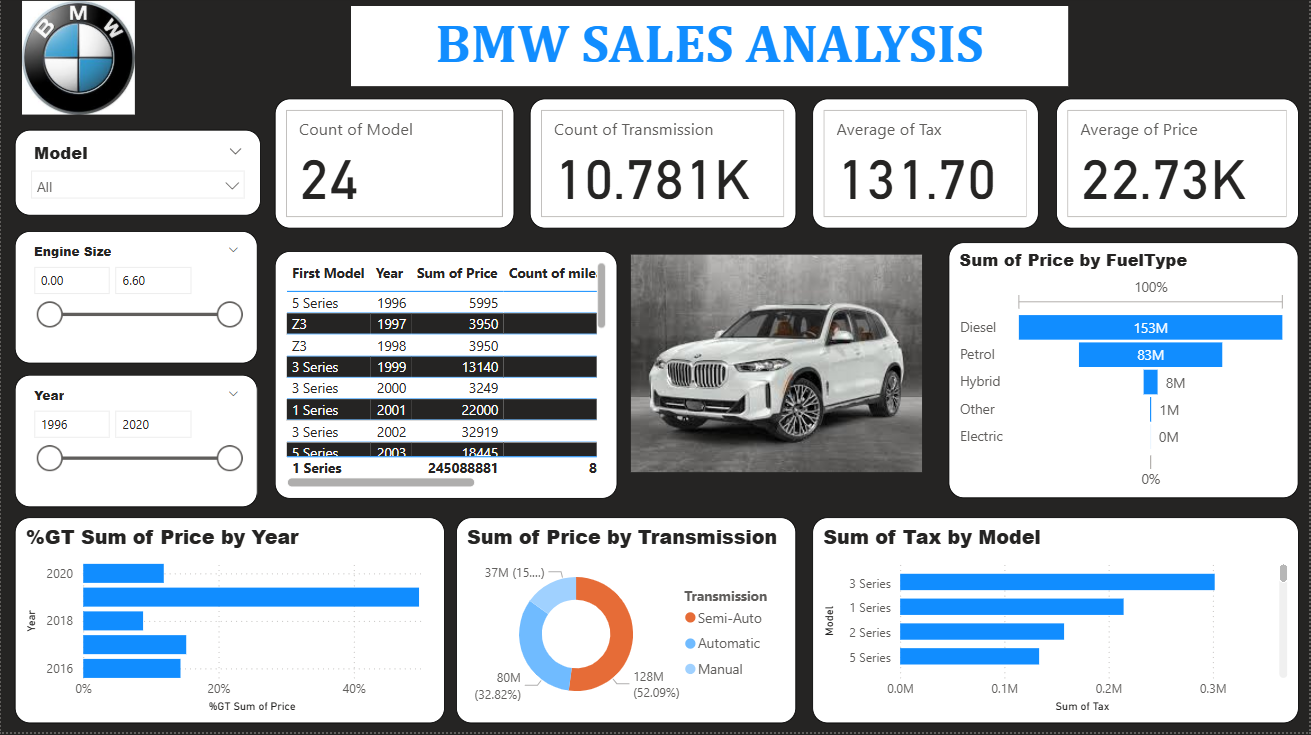

The page's visual inventory and layout, read from the dashboard file:
{"tool":"powerbi","page":{"name":"Page 1","canvas":[1280,720],"ordinal":0},"visuals":[{"type":"image","box":[8.6,0,134.5,121.1],"z":0},{"type":"textbox","box":[342.4,9.8,701.9,78.3],"z":1000},{"type":"cardVisual","fields":{"Data":["Avg(bmw.tax)"]},"box":[793.6,100.3,221.3,127.2],"z":2000},{"type":"cardVisual","fields":{"Data":["Count(bmw.model)"]},"box":[267.8,100.3,234.8,127.2],"z":3000},{"type":"cardVisual","fields":{"Data":["CountNonNull(bmw.transmission)"]},"box":[517.3,100.3,260.5,127.2],"z":4000},{"type":"barChart","fields":{"Category":["bmw.year"],"Y":["Sum(bmw.Price)"]},"box":[13.5,509.9,420.7,201.8],"z":5000},{"type":"donutChart","fields":{"Y":["Sum(bmw.price)"],"Category":["bmw.transmission"]},"box":[445.1,509.9,332.6,201.8],"z":6000},{"type":"barChart","fields":{"Category":["bmw.model"],"Y":["Sum(bmw.tax)"]},"box":[793.6,509.9,475.7,201.8],"z":7000},{"type":"tableEx","fields":{"Values":["bmw.model","Sum(bmw.year)","Sum(bmw.price)","Count(bmw.mileage)","Sum(bmw.tax)","Sum(bmw.mpg)"]},"box":[267.8,249.5,335.1,242.1],"z":8000},{"type":"image","box":[611.4,225,294.7,269],"z":9000},{"type":"slicer","fields":{"Values":["bmw.model"]},"box":[13.5,130.8,240.9,84.4],"z":10000},{"type":"slicer","fields":{"Values":["bmw.engineSize"]},"box":[13.5,229.9,237.2,129.6],"z":11000},{"type":"slicer","fields":{"Values":["bmw.year"]},"box":[13.5,370.5,237.2,129.6],"z":12000},{"type":"funnel","fields":{"Y":["Sum(bmw.Price)"],"Category":["bmw.FuelType"]},"box":[926.9,240.9,342.4,250.7],"z":13000},{"type":"cardVisual","fields":{"Data":["Avg(bmw.Price)"]},"box":[1032.1,100.3,237.2,127.2],"z":14000}]}

Visuals, with their boxes in screenshot pixels (x1, y1, x2, y2), scaled from the page's 1280x720 canvas onto the 1311x735 screenshot:
image: region(9, 0, 147, 124)
textbox: region(351, 10, 1070, 90)
cardVisual - Avg(bmw.tax): region(813, 102, 1039, 232)
cardVisual - Count(bmw.model): region(274, 102, 515, 232)
cardVisual - CountNonNull(bmw.transmission): region(530, 102, 797, 232)
barChart - bmw.year x Sum(bmw.Price): region(14, 521, 445, 727)
donutChart - Sum(bmw.price) x bmw.transmission: region(456, 521, 797, 727)
barChart - bmw.model x Sum(bmw.tax): region(813, 521, 1300, 727)
tableEx - bmw.model x Sum(bmw.year): region(274, 255, 618, 502)
image: region(626, 230, 928, 504)
slicer - bmw.model: region(14, 134, 261, 220)
slicer - bmw.engineSize: region(14, 235, 257, 367)
slicer - bmw.year: region(14, 378, 257, 511)
funnel - Sum(bmw.Price) x bmw.FuelType: region(949, 246, 1300, 502)
cardVisual - Avg(bmw.Price): region(1057, 102, 1300, 232)
